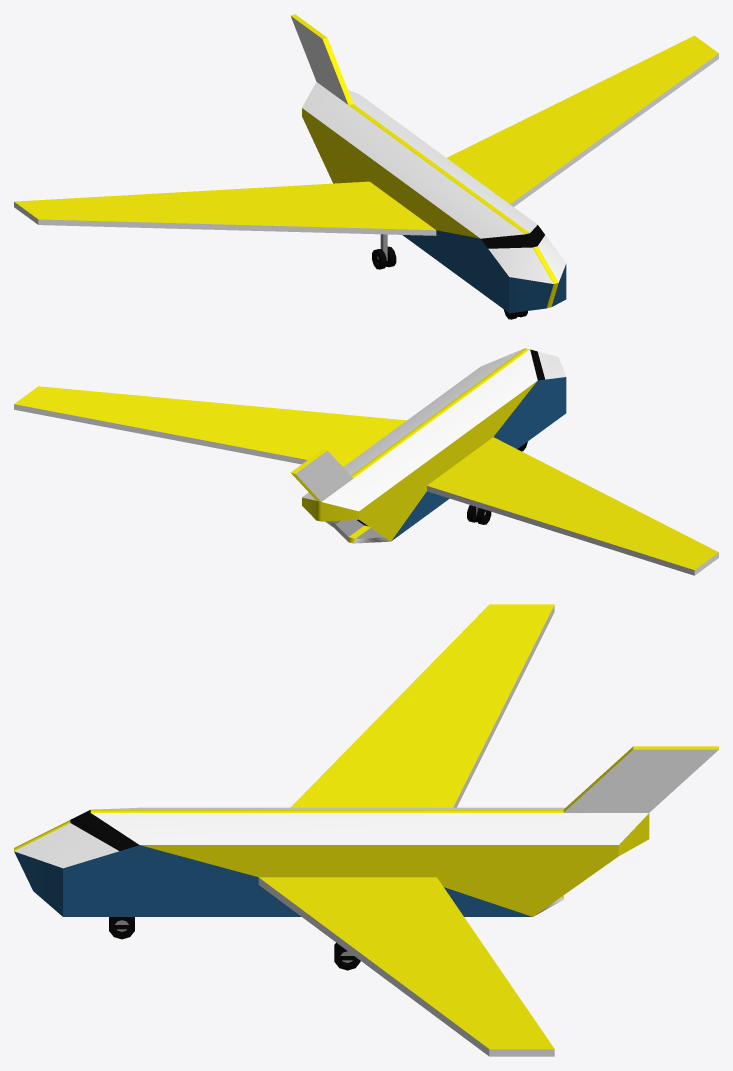
The model's file is AirplaneA.fbx.
3 views of the same model, one above another, from view 1: azimuth 30°, elevation 25°; view 2: azimuth 150°, elevation 25°; view 3: azimuth 270°, elevation 25° (orthographic). The views are drawn at different scales.
Visible parts, largest first — view 1: AirplaneA; view 2: AirplaneA; view 3: AirplaneA.
Part boxes in pixels (x1,y1,x2,y2): AirplaneA: [14, 14, 718, 313]; AirplaneA: [14, 348, 718, 575]; AirplaneA: [14, 604, 718, 1056].
Bounding box in the file's own units: 2385 × 467 × 1597.
1 material, 1 textured.
